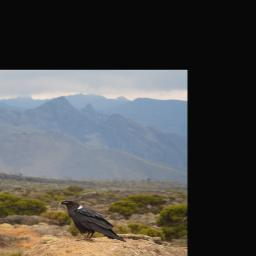Crow: (58, 199, 128, 244)
